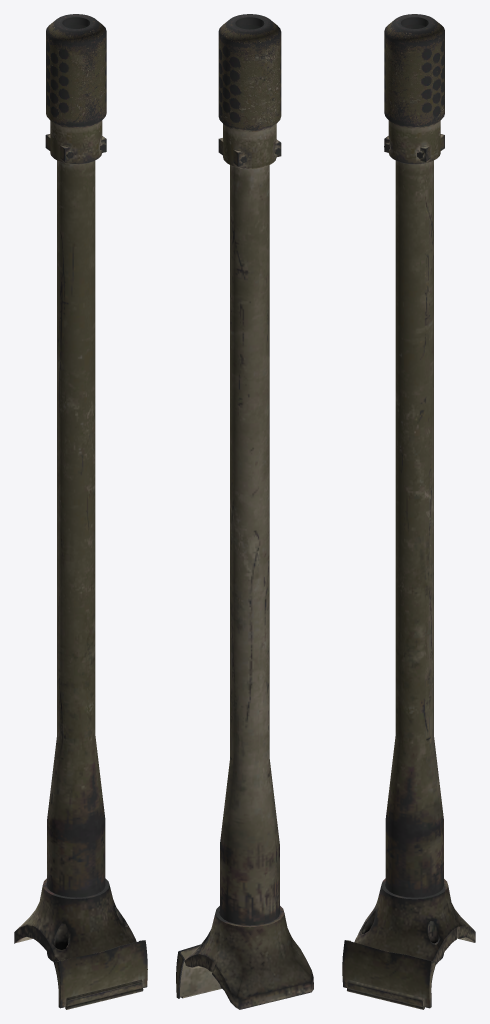
File: Gun_03.glb
3 renders of one model, left to right at view 1: azimuth 30°, elevation 25°; view 2: azimuth 210°, elevation 25°; view 3: azimuth 330°, elevation 25°, orthographic. The views are drawn at different scales.
Visible parts, largest first — view 1: set_0_group_0; view 2: set_0_group_0; view 3: set_0_group_0.
Boxes of the visible parts, x1,y1,x2,y2 form: set_0_group_0: (14, 14, 147, 1009); set_0_group_0: (176, 14, 313, 1009); set_0_group_0: (342, 14, 475, 1009).
Size of the model in its own units: 0.5483 by 5.77 by 0.6032.
1 material, 1 textured.
